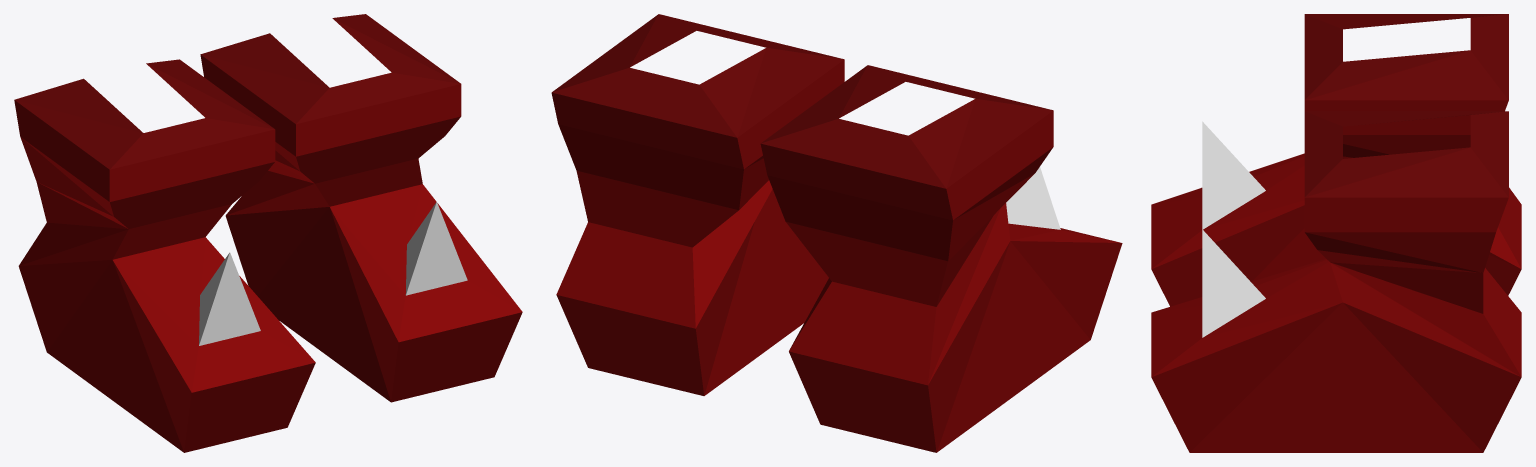
The model's file is dragon-boots.glb.
3 renders of one model, left to right at view 1: azimuth 30°, elevation 25°; view 2: azimuth 150°, elevation 25°; view 3: azimuth 270°, elevation 25°, orthographic. The views are drawn at different scales.
Visible parts, largest first — view 1: runescapemodel; view 2: runescapemodel; view 3: runescapemodel.
Boxes of the visible parts, x1,y1,x2,y2 form: runescapemodel: [14, 14, 522, 452]; runescapemodel: [551, 14, 1122, 452]; runescapemodel: [1151, 14, 1521, 452].
Bounding box in the file's own units: 34 × 25 × 29.
